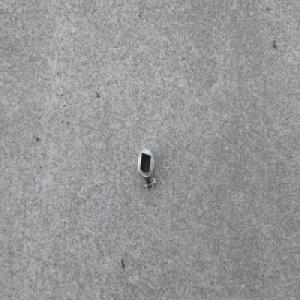MetalPart: (136, 147, 157, 194)
